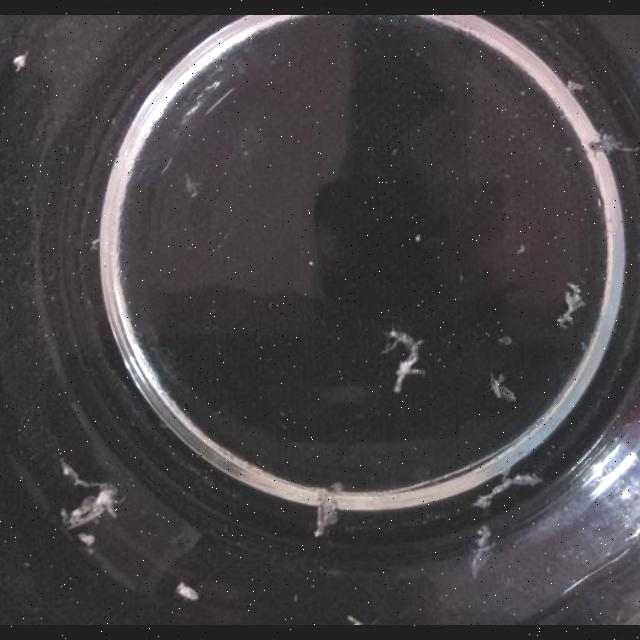Fibre: (60, 461, 122, 534), (382, 328, 426, 394), (468, 525, 497, 579), (314, 484, 342, 538), (556, 283, 586, 329), (489, 371, 517, 402), (184, 172, 202, 198), (345, 616, 371, 626), (77, 534, 95, 548), (567, 79, 585, 93)
microbeads: (177, 582, 200, 602), (12, 51, 28, 70), (392, 148, 400, 156), (414, 235, 422, 243), (242, 149, 250, 157), (309, 260, 315, 268)
